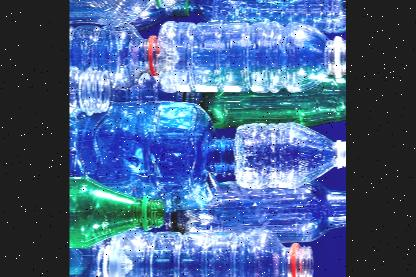Plastic Bottle: (69, 99, 235, 210), (153, 20, 346, 94), (109, 230, 315, 277), (233, 123, 346, 190), (70, 175, 166, 248), (69, 0, 178, 26)
